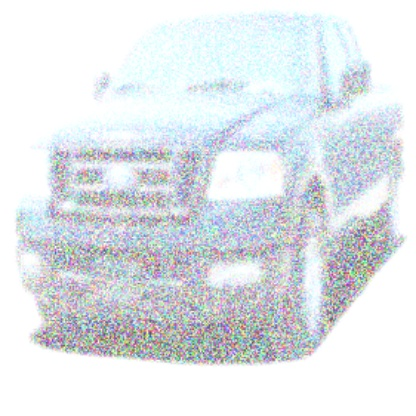Vehicle: (16, 11, 408, 350)
